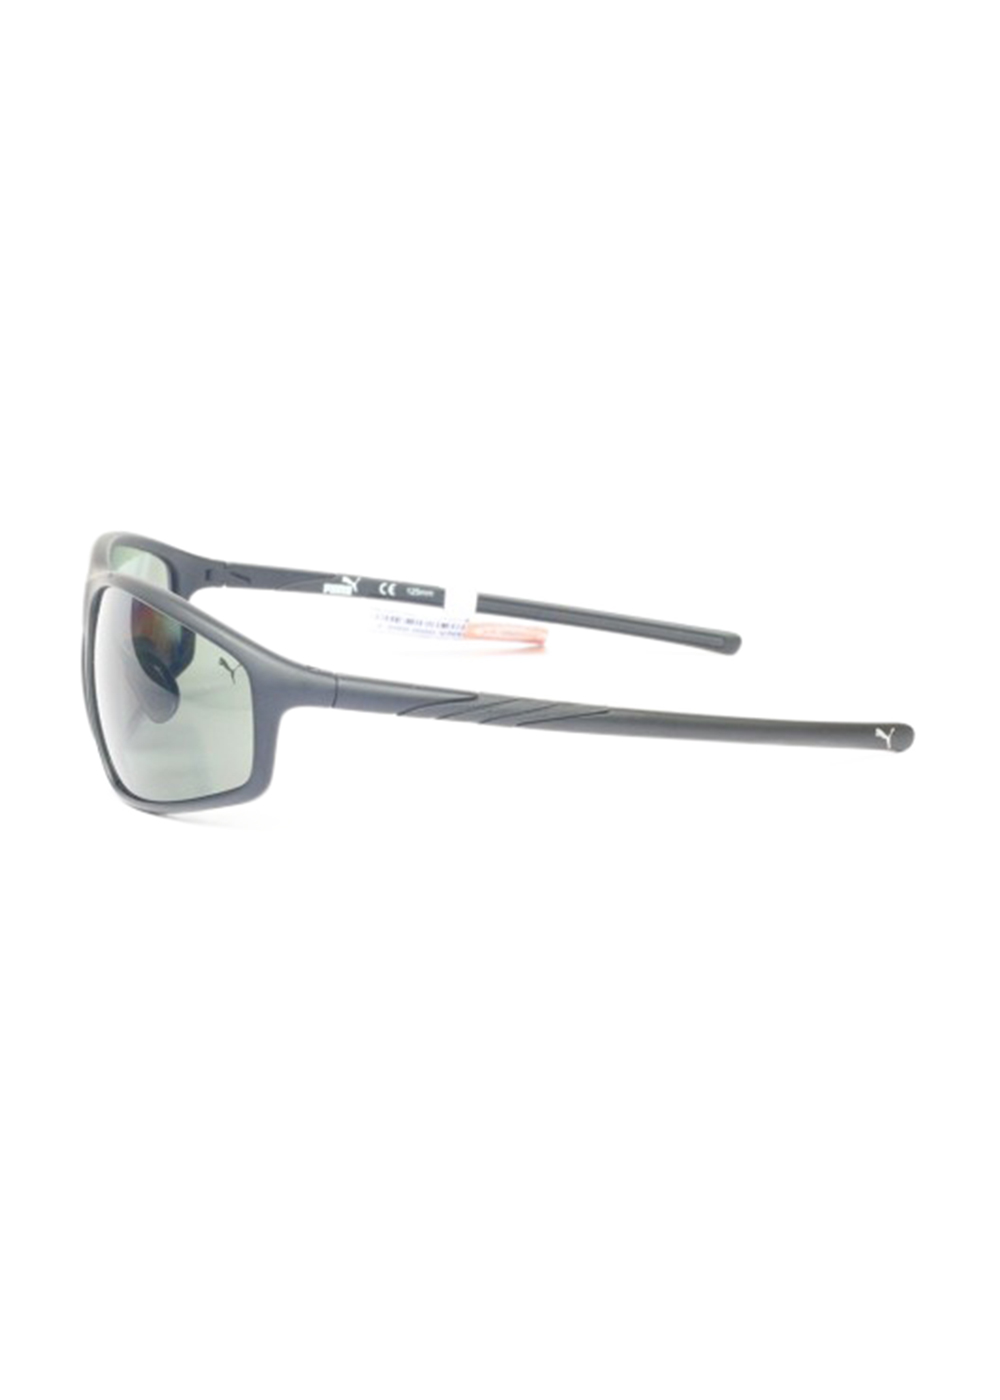Puma: (313, 563, 368, 602), (208, 639, 251, 686), (864, 718, 903, 752)
